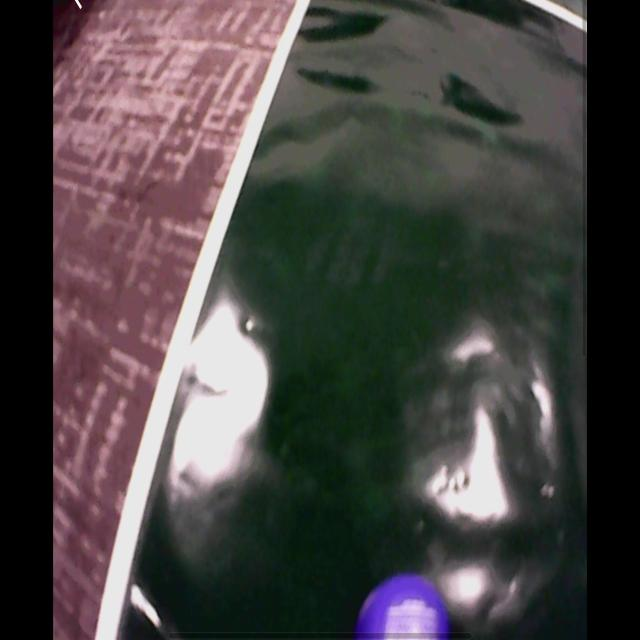ball: (360, 575, 449, 640)
